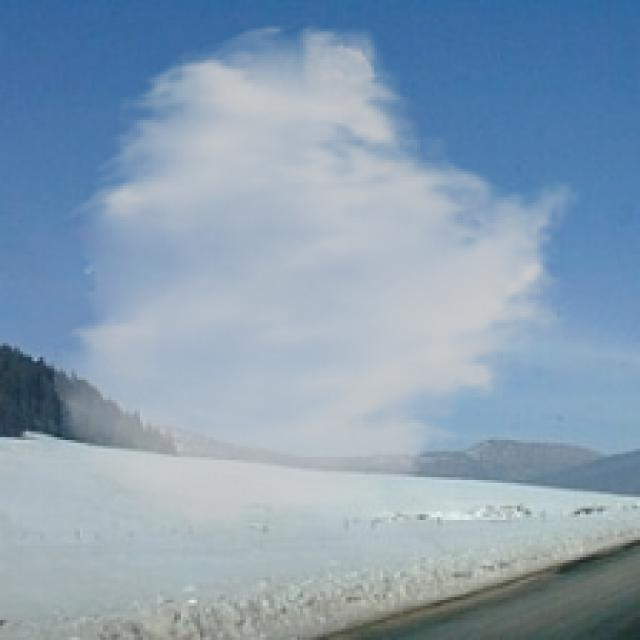smoke: (48, 20, 583, 540)
